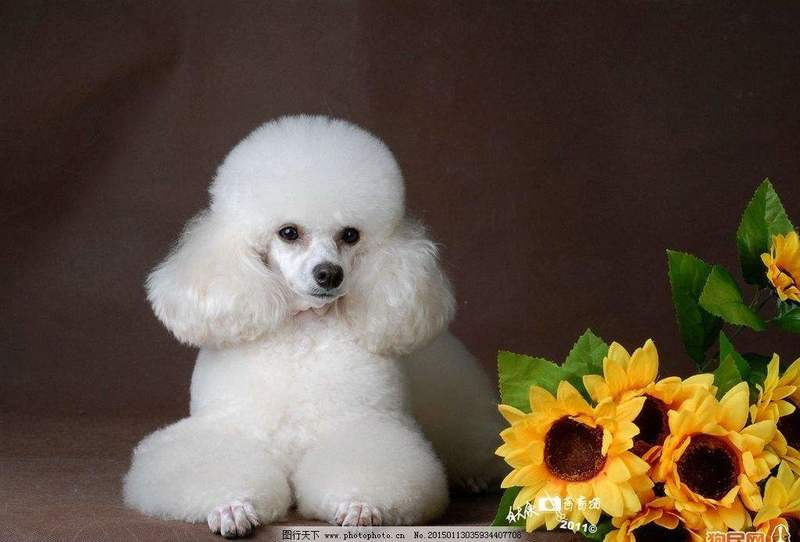dog: (135, 99, 488, 376)
